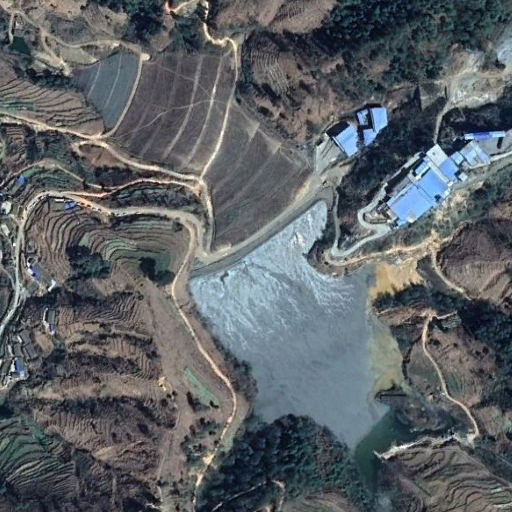tp: (72, 58, 430, 489)
